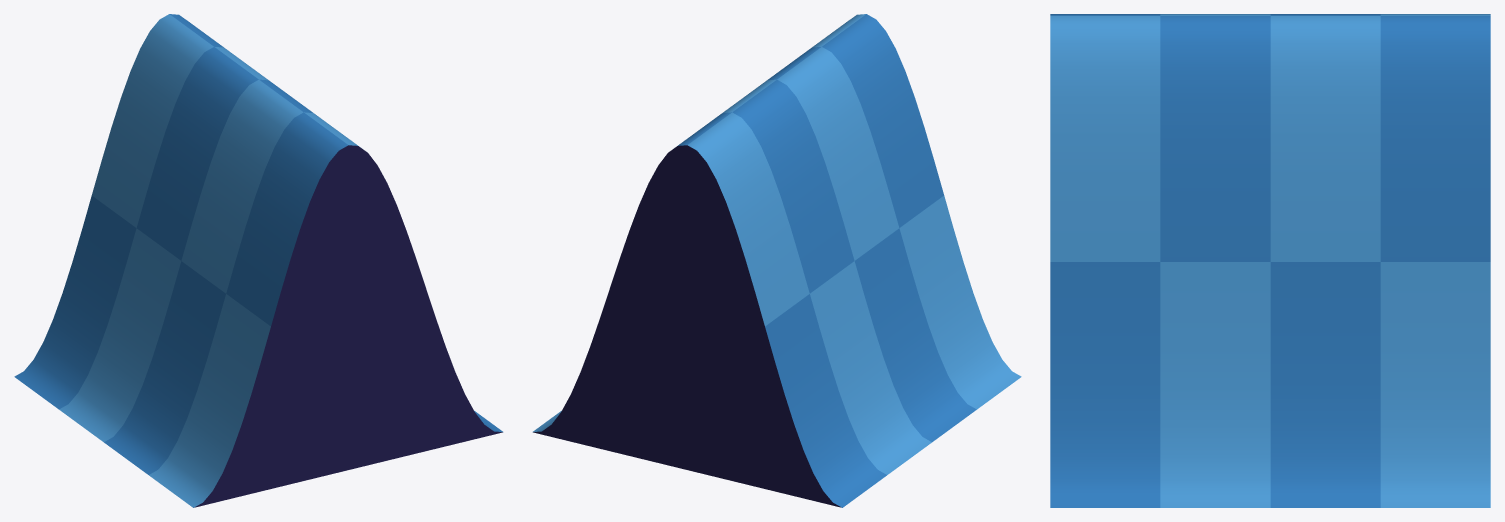
The model's file is arch_blue.glb.
3 views of the same model, side by side, from view 1: azimuth 30°, elevation 25°; view 2: azimuth 150°, elevation 25°; view 3: azimuth 270°, elevation 25° (orthographic). The views are drawn at different scales.
Visible parts, largest first — view 1: Body; view 2: Body; view 3: Body.
Boxes of the visible parts, <box> form: Body: <box>14,14,503,507</box>; Body: <box>532,14,1021,507</box>; Body: <box>1050,14,1490,507</box>.
Size of the model in its own units: 1 by 1 by 1.
